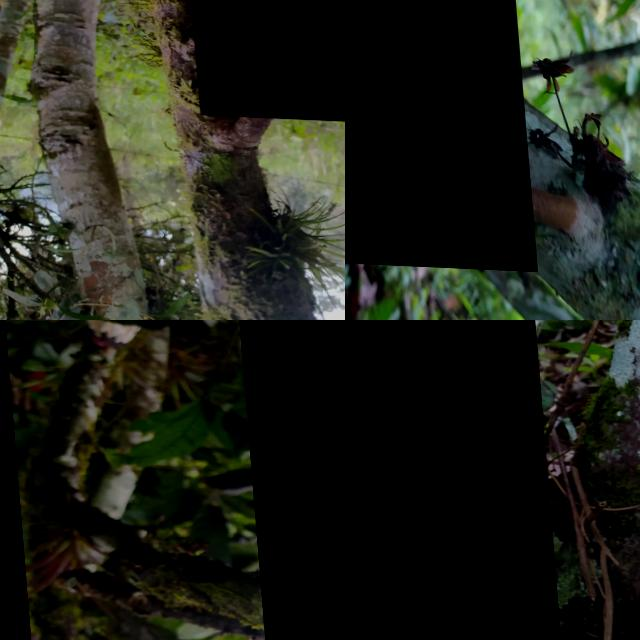Fitoftora: (169, 0, 345, 120)
Monilia: (345, 320, 557, 640), (345, 0, 529, 267), (233, 320, 345, 640)
